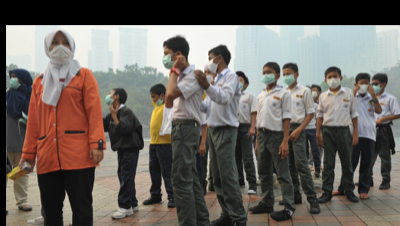mask_weared_incorrect: (150, 93, 161, 106)
with_mask: (48, 36, 72, 65), (163, 49, 176, 70), (326, 73, 341, 89), (262, 69, 276, 85), (282, 71, 295, 87), (9, 74, 22, 89), (208, 54, 218, 73), (357, 80, 369, 94), (203, 70, 214, 85), (372, 80, 382, 95), (106, 91, 115, 107), (311, 88, 318, 98)
